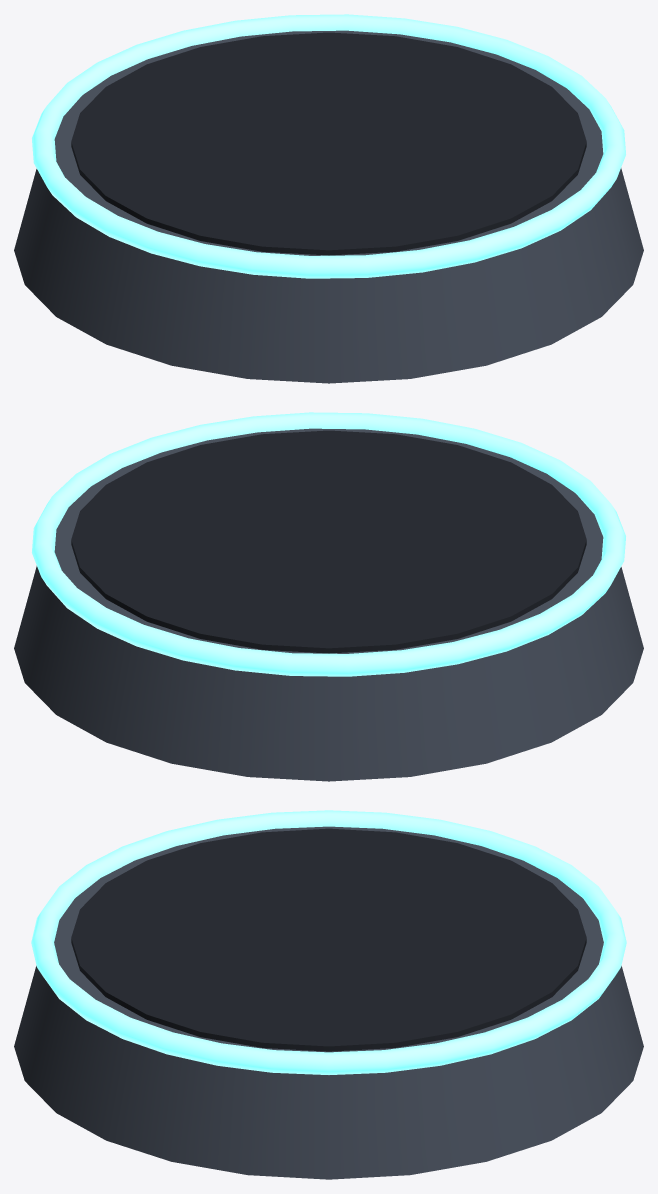
Rendered from f_pedestal.glb.
3 renders of one model, top to bottom at view 1: azimuth 30°, elevation 25°; view 2: azimuth 150°, elevation 25°; view 3: azimuth 270°, elevation 25°, orthographic.
Parts seen in each view (by area): view 1: pedestal; view 2: pedestal; view 3: pedestal.
Part boxes in pixels (x1,y1,x2,y2): pedestal: [14, 14, 643, 383]; pedestal: [14, 412, 643, 781]; pedestal: [14, 810, 643, 1179].
Size of the model in its own units: 2.2 by 0.4346 by 2.2.
